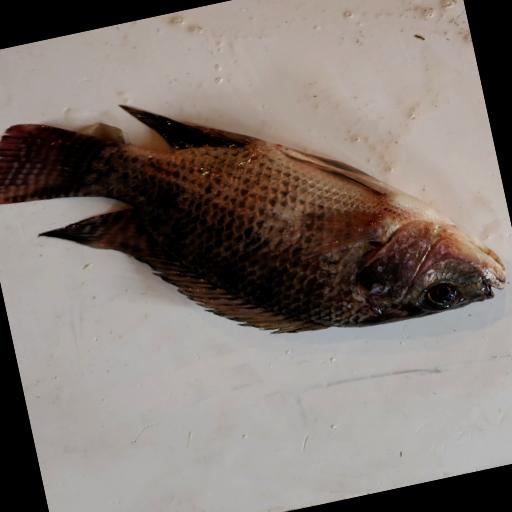Tilapia: (0, 30, 511, 401)
